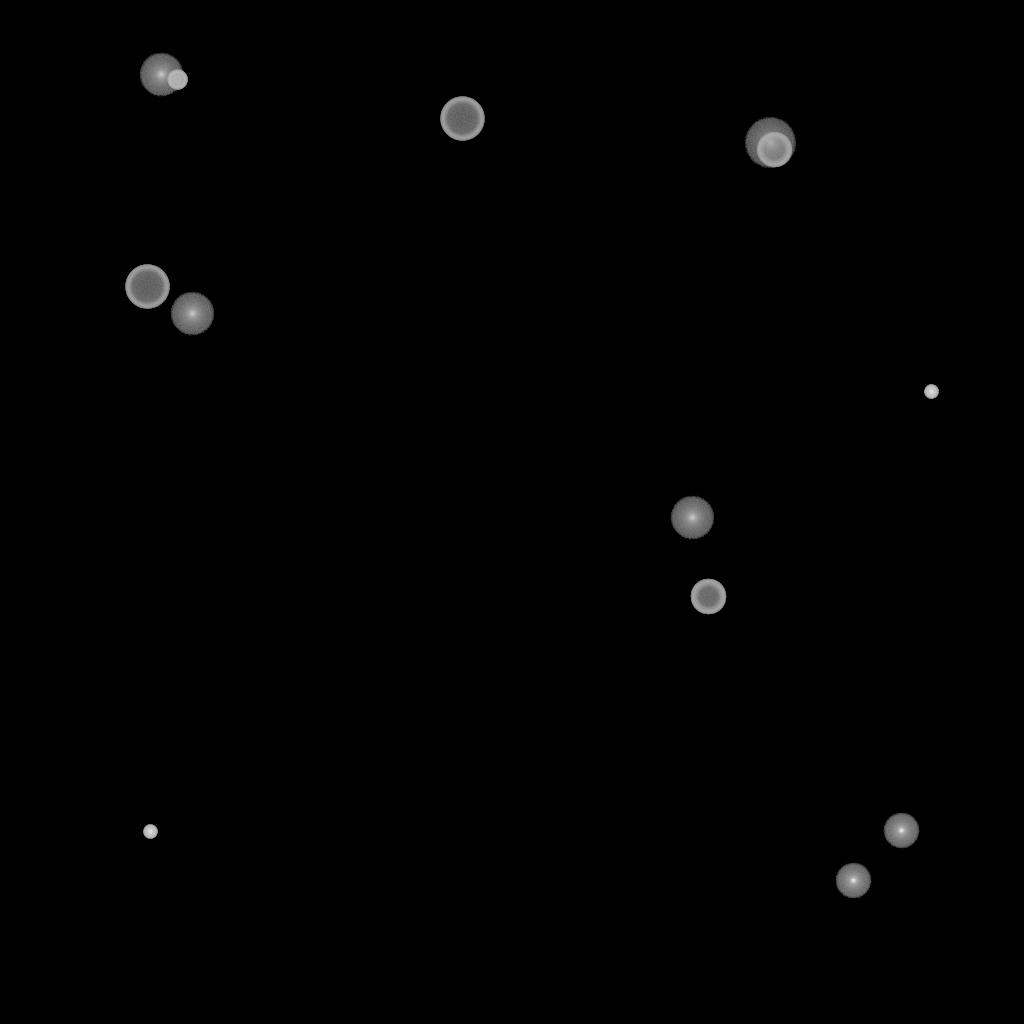depth:-30: (143, 825, 157, 839), (924, 385, 938, 399)
depth:-40: (167, 70, 187, 90)
depth:-60: (756, 132, 792, 168), (690, 579, 726, 615)
depth:-70: (440, 97, 484, 141), (125, 265, 169, 309)
depth:0: (835, 863, 871, 899), (883, 813, 919, 849)
depth:10: (170, 292, 214, 336), (670, 496, 714, 540), (139, 53, 183, 97)
depth:20: (744, 118, 796, 168)
